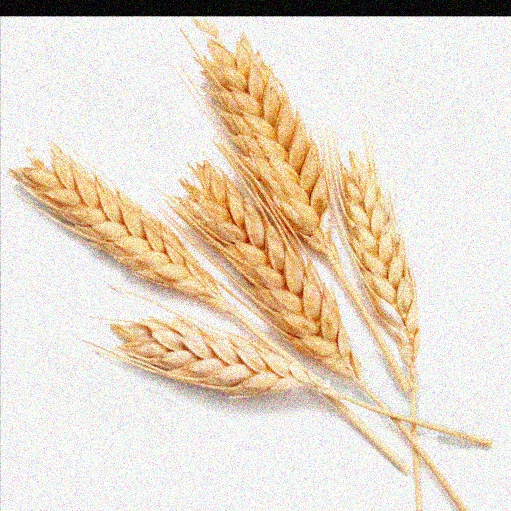wheat: (2, 134, 249, 336), (176, 156, 375, 390), (194, 25, 341, 259), (99, 310, 365, 398), (337, 162, 428, 398)
